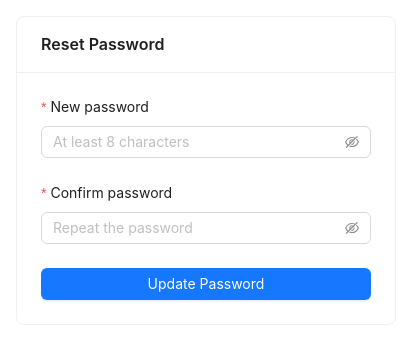
Test: ResetPassword page › rejects mismatching confirmation
Type "Passw0rd123" into the password field with placeholder "At least 8 characters" at (197, 142), box [53, 131, 341, 153]
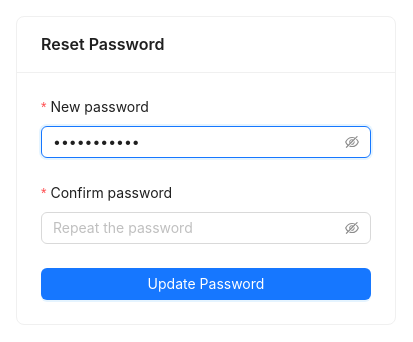
Type "Different123" into the password field with placeholder "Repeat the password" at (197, 228), box [53, 217, 341, 239]
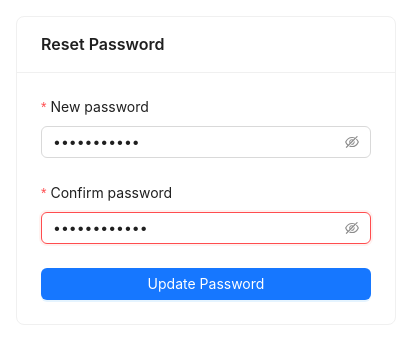
Click the button "Update Password" at (206, 284), box [41, 268, 371, 300]
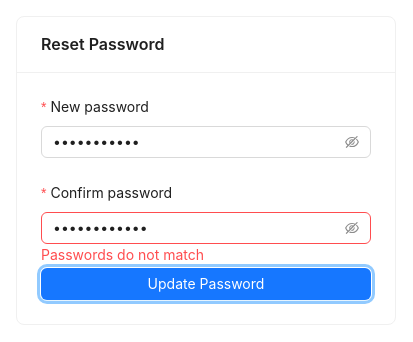
Check: the text "Passwords do not match" is shown, box [41, 246, 204, 263]
